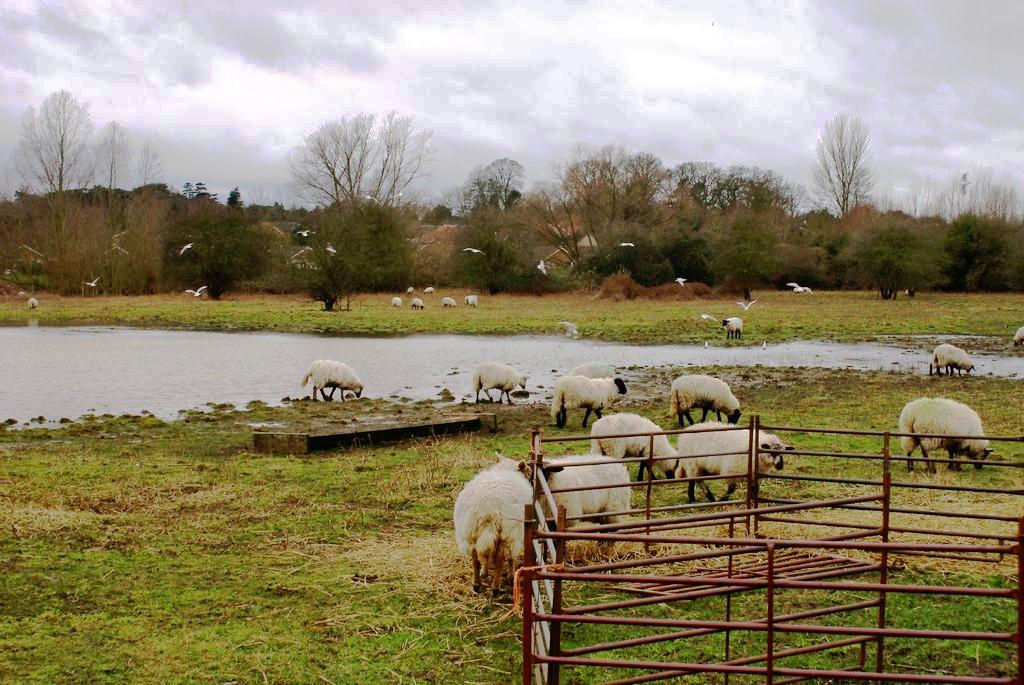Sheep: (451, 452, 545, 596), (674, 417, 792, 505), (524, 452, 632, 544), (588, 412, 680, 484), (900, 398, 991, 469), (551, 375, 627, 431), (668, 379, 742, 426), (299, 359, 366, 401), (475, 362, 527, 404), (928, 343, 974, 374), (570, 362, 614, 378), (722, 318, 744, 338), (1014, 326, 1024, 347)
